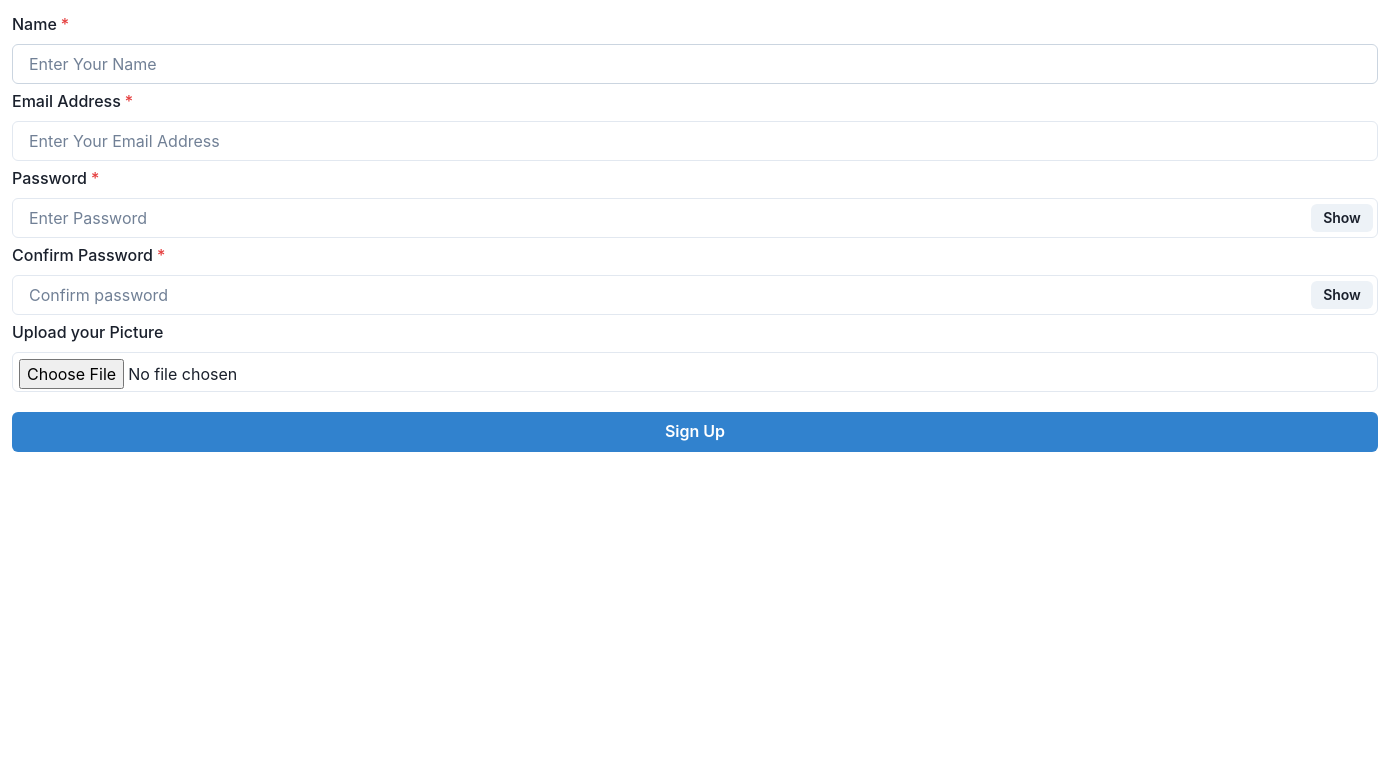
it: Signup Component › should show warning if fields are empty
What coordinates should you click on to do the following:
click the button "Sign Up"
I would click on:
 (695, 432)
Its box is [12,412,1378,452].
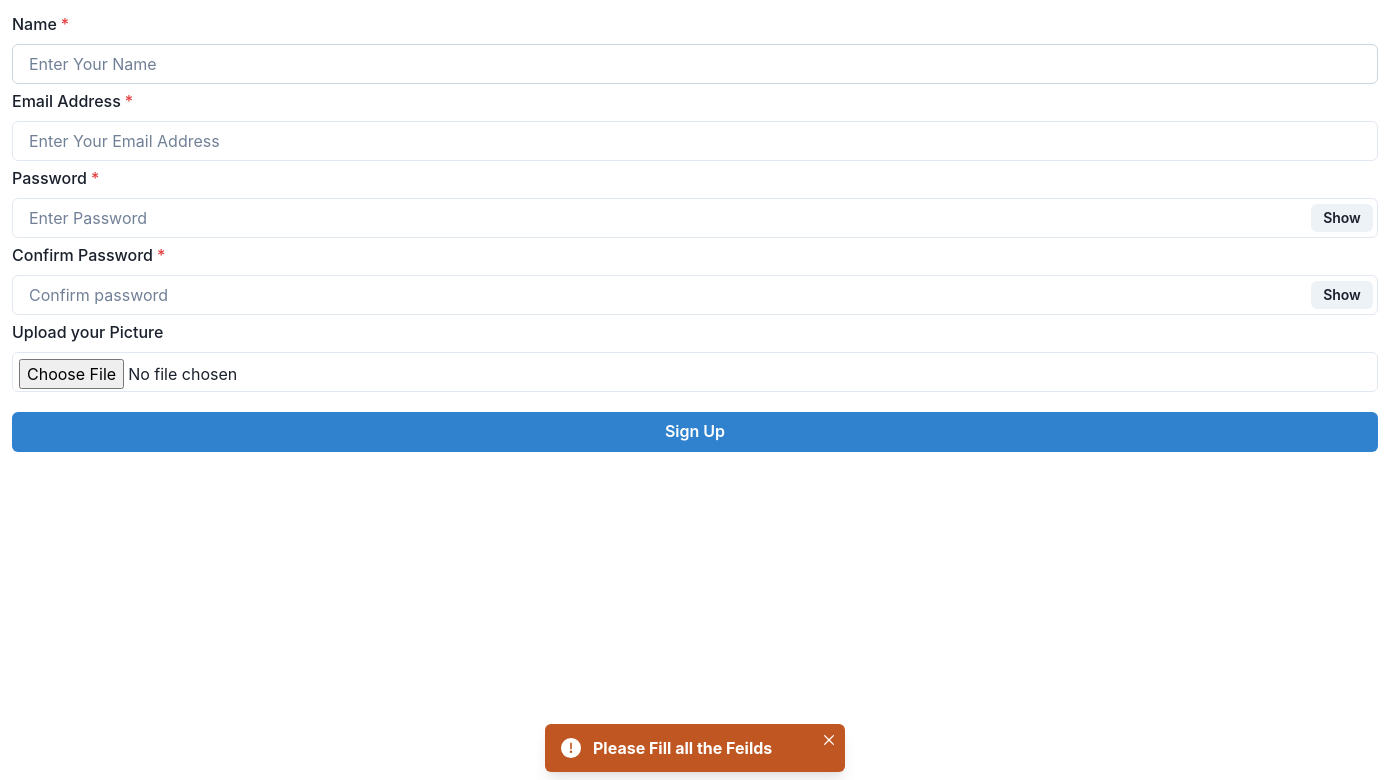
Expected: the text "Please Fill all the Feilds" is shown, [593,738,772,758]
